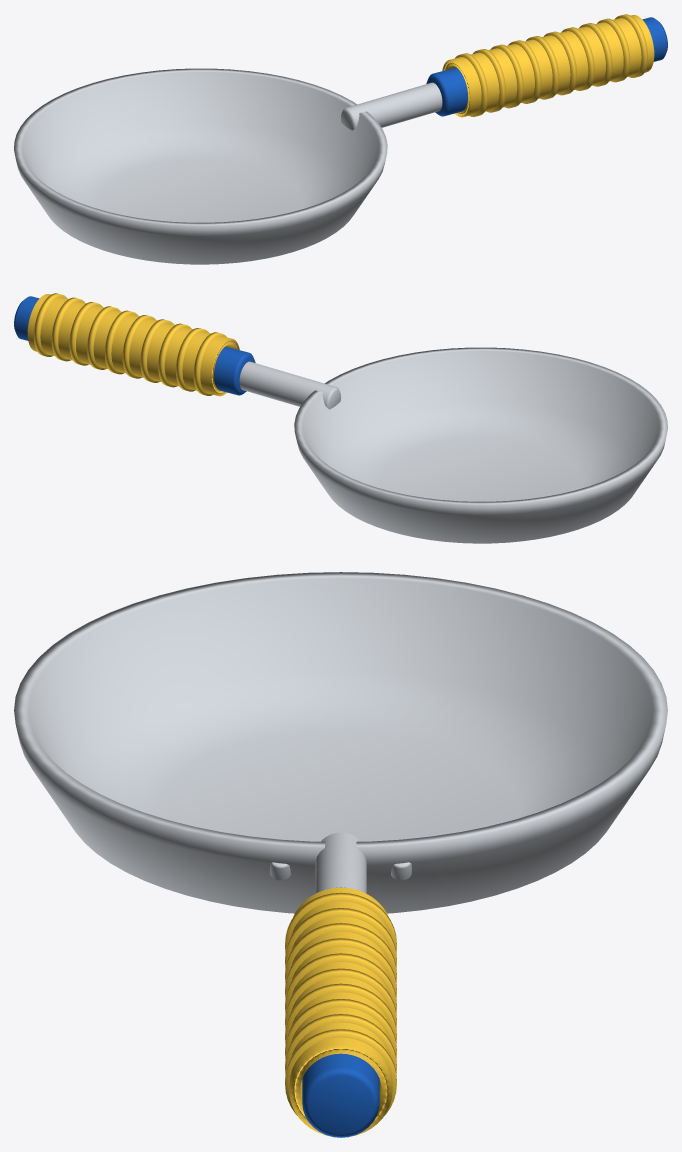
File: frying_pan.glb
3 renders of one model, top to bottom at view 1: azimuth 30°, elevation 25°; view 2: azimuth 150°, elevation 25°; view 3: azimuth 270°, elevation 25°, orthographic. The views are drawn at different scales.
Parts seen in each view (by area): view 1: Frying_Pan, Silicone_Grip, Pan_Handle_Tang, Pan_Long_Handle, Grip_Rib0.25, Grip_Rib0.38333333333333336, Grip_Rib0.2833333333333333, Grip_Rib0.31666666666666665, Grip_Rib0.3, Grip_Rib0.33333333333333337, Grip_Rib0.35000000000000003, Grip_Rib0.26666666666666666 (+2 smaller); view 2: Frying_Pan, Silicone_Grip, Pan_Handle_Tang, Pan_Long_Handle, Grip_Rib0.25, Grip_Rib0.38333333333333336, Grip_Rib0.2833333333333333, Grip_Rib0.31666666666666665, Grip_Rib0.3, Grip_Rib0.33333333333333337, Grip_Rib0.35000000000000003, Grip_Rib0.26666666666666666 (+2 smaller); view 3: Frying_Pan, Silicone_Grip, Pan_Long_Handle, Pan_Handle_Tang, Grip_Rib0.4, Grip_Rib0.33333333333333337, Grip_Rib0.35000000000000003, Grip_Rib0.25, Grip_Rib0.38333333333333336, Grip_Rib0.3, Grip_Rib0.3666666666666667, Grip_Rib0.26666666666666666 (+2 smaller).
Boxes of the visible parts, box(x1,y1,x2,y2) form: Frying_Pan: box(14, 68, 387, 264); Silicone_Grip: box(442, 15, 654, 117); Pan_Handle_Tang: box(340, 82, 442, 130); Pan_Long_Handle: box(426, 17, 667, 116); Grip_Rib0.25: box(455, 53, 488, 116); Grip_Rib0.38333333333333336: box(597, 18, 630, 82); Grip_Rib0.2833333333333333: box(490, 44, 523, 108); Grip_Rib0.31666666666666665: box(526, 36, 559, 99); Grip_Rib0.3: box(508, 40, 541, 103); Grip_Rib0.33333333333333337: box(544, 31, 576, 95); Grip_Rib0.35000000000000003: box(561, 27, 594, 90); Grip_Rib0.26666666666666666: box(473, 49, 505, 112); Frying_Pan: box(294, 347, 667, 543); Silicone_Grip: box(27, 294, 239, 396); Pan_Handle_Tang: box(239, 361, 341, 409); Pan_Long_Handle: box(14, 296, 255, 395); Grip_Rib0.25: box(193, 332, 226, 395); Grip_Rib0.38333333333333336: box(51, 297, 84, 361); Grip_Rib0.2833333333333333: box(158, 323, 191, 387); Grip_Rib0.31666666666666665: box(122, 315, 155, 378); Grip_Rib0.3: box(140, 319, 173, 382); Grip_Rib0.33333333333333337: box(105, 310, 137, 374); Grip_Rib0.35000000000000003: box(87, 306, 120, 369); Grip_Rib0.26666666666666666: box(176, 328, 208, 391); Frying_Pan: box(14, 572, 667, 913); Silicone_Grip: box(289, 887, 392, 1136); Pan_Long_Handle: box(302, 887, 379, 1137); Pan_Handle_Tang: box(315, 832, 366, 893); Grip_Rib0.4: box(285, 1029, 396, 1115); Grip_Rib0.33333333333333337: box(285, 968, 396, 1028); Grip_Rib0.35000000000000003: box(285, 983, 396, 1043); Grip_Rib0.25: box(285, 892, 396, 952); Grip_Rib0.38333333333333336: box(285, 1014, 396, 1079); Grip_Rib0.3: box(285, 938, 396, 997); Grip_Rib0.3666666666666667: box(285, 999, 396, 1058); Grip_Rib0.26666666666666666: box(285, 908, 396, 967).
Size of the model in its own units: 0.5822 by 0.082 by 0.304.
